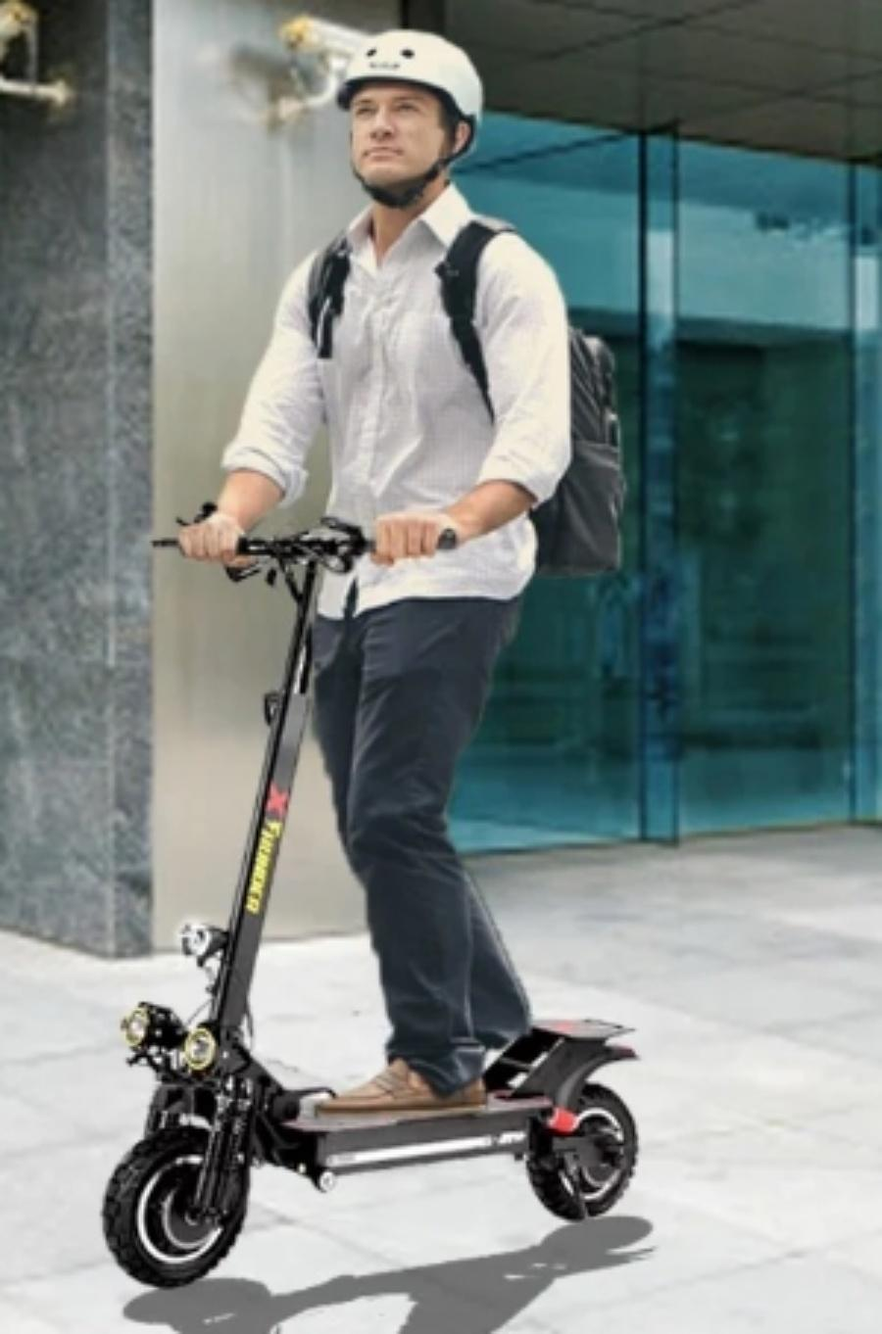helmet: (343, 30, 484, 205)
human: (185, 40, 551, 1090)
kickboard: (108, 1083, 639, 1266)
